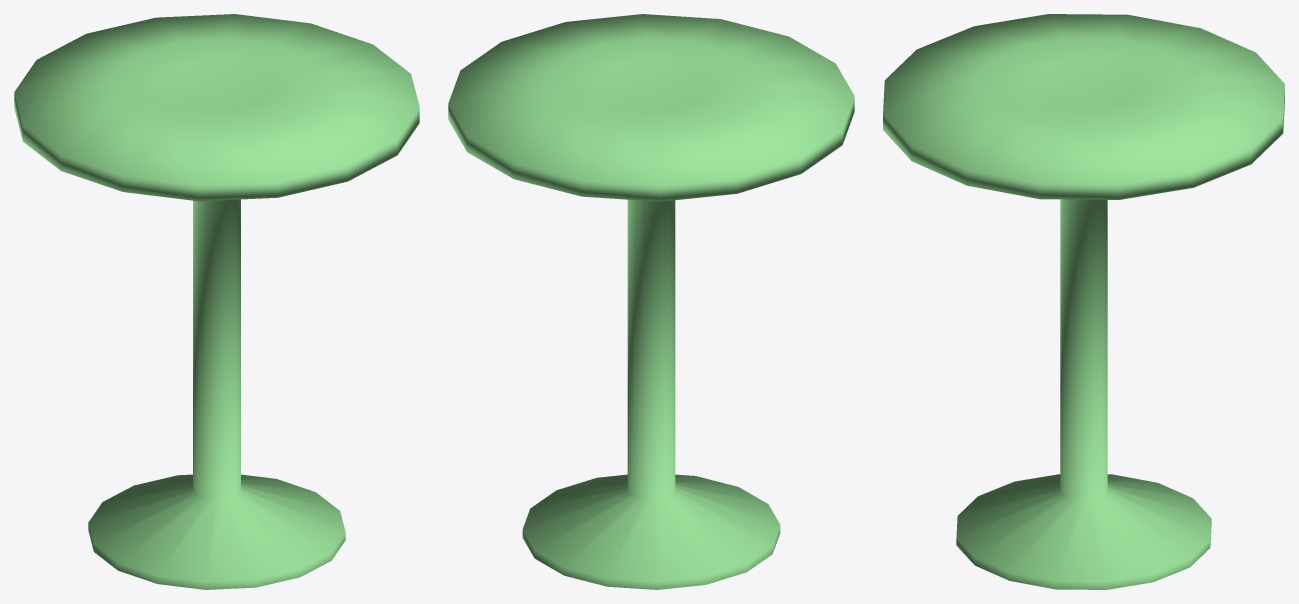
The model's file is KitchenChair.obj.
3 views of the same model, side by side, from view 1: azimuth 30°, elevation 25°; view 2: azimuth 150°, elevation 25°; view 3: azimuth 270°, elevation 25° (orthographic).
Visible parts, largest first — view 1: Cylinder009; view 2: Cylinder009; view 3: Cylinder009.
Part boxes in pixels (bbox=[...]): Cylinder009: bbox=[14, 14, 419, 589]; Cylinder009: bbox=[448, 14, 854, 589]; Cylinder009: bbox=[883, 14, 1284, 589].
Size of the model in its own units: 14.22 by 17.65 by 14.22.
